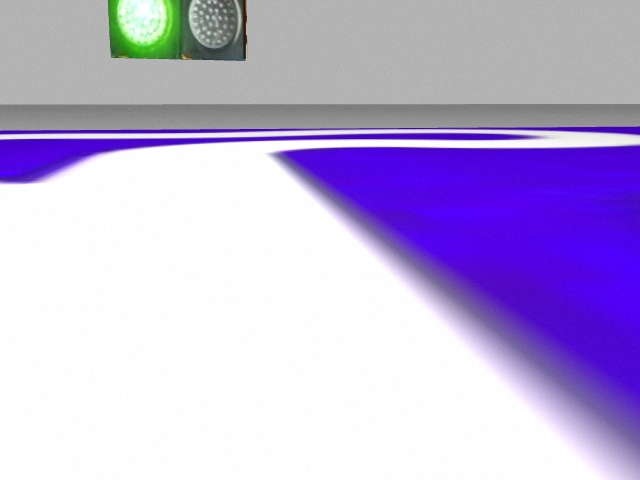green: (108, 2, 183, 58)
